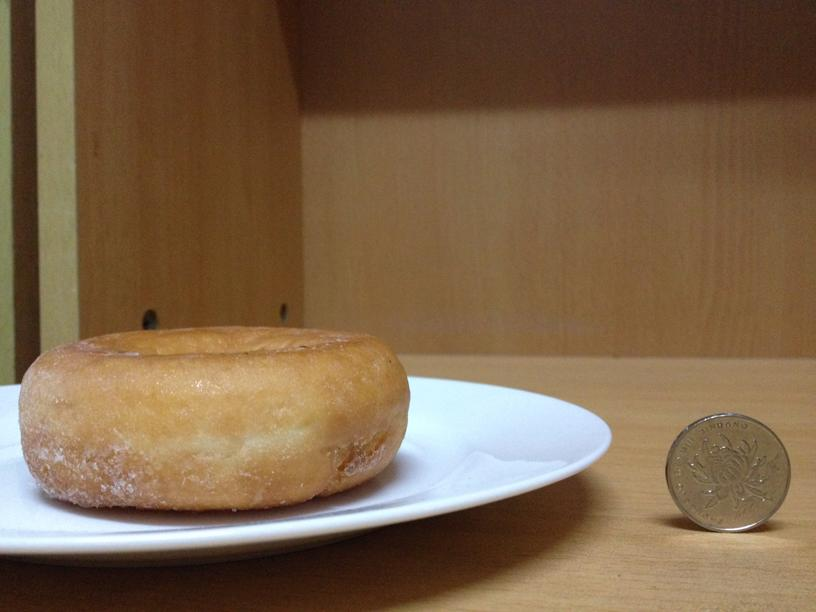coin: (663, 413, 792, 531)
doughnut: (24, 329, 410, 513)
